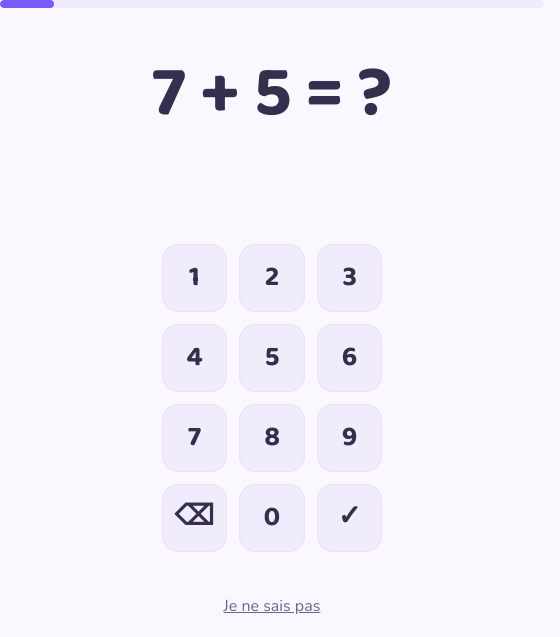
Test: QuestionCard — format pavé › vide la saisie après validation (question suivante repart de zéro)
Click the button "9" at coordinates (350, 438), box left=317, top=404, right=382, bottom=472
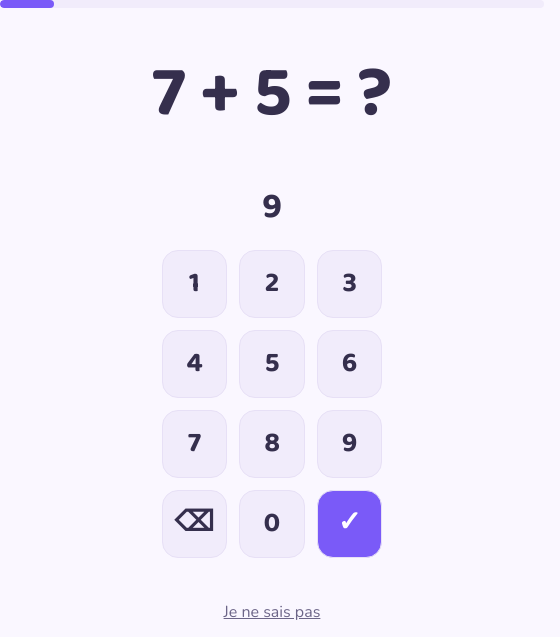
Click the button named "Valider" at coordinates (350, 524), box left=317, top=490, right=382, bottom=558
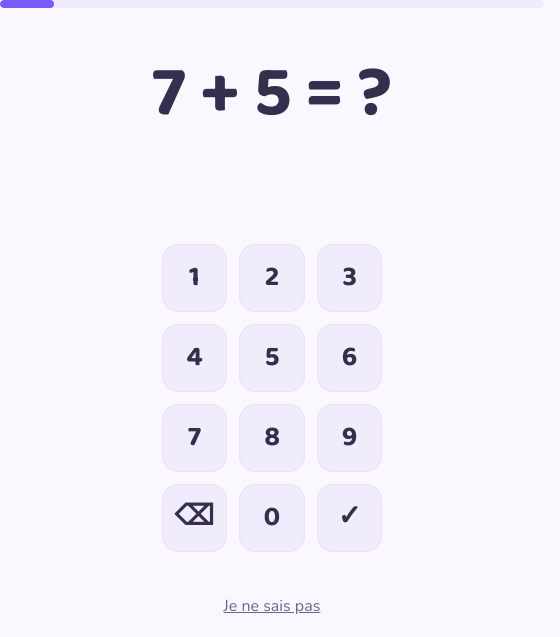
Expected: the button named "Valider" is disabled, left=317, top=484, right=382, bottom=552
